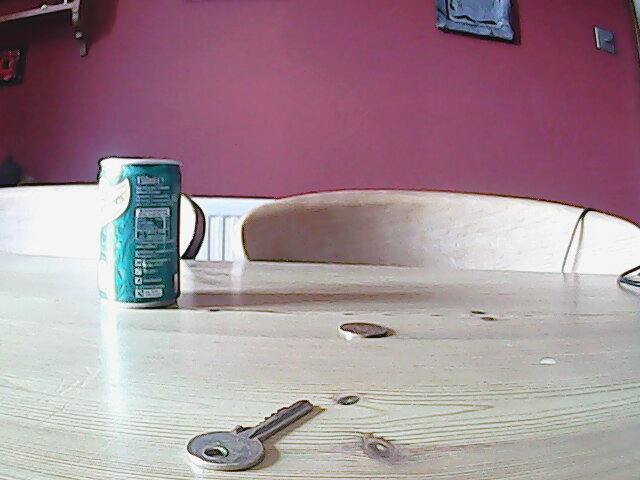Can: (93, 156, 187, 310)
Coin: (336, 321, 391, 345)
Key: (183, 396, 316, 474)
